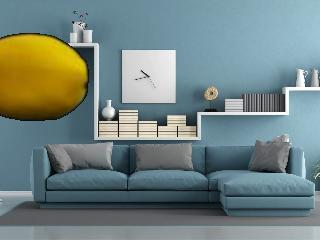lemon: (0, 33, 87, 120)
